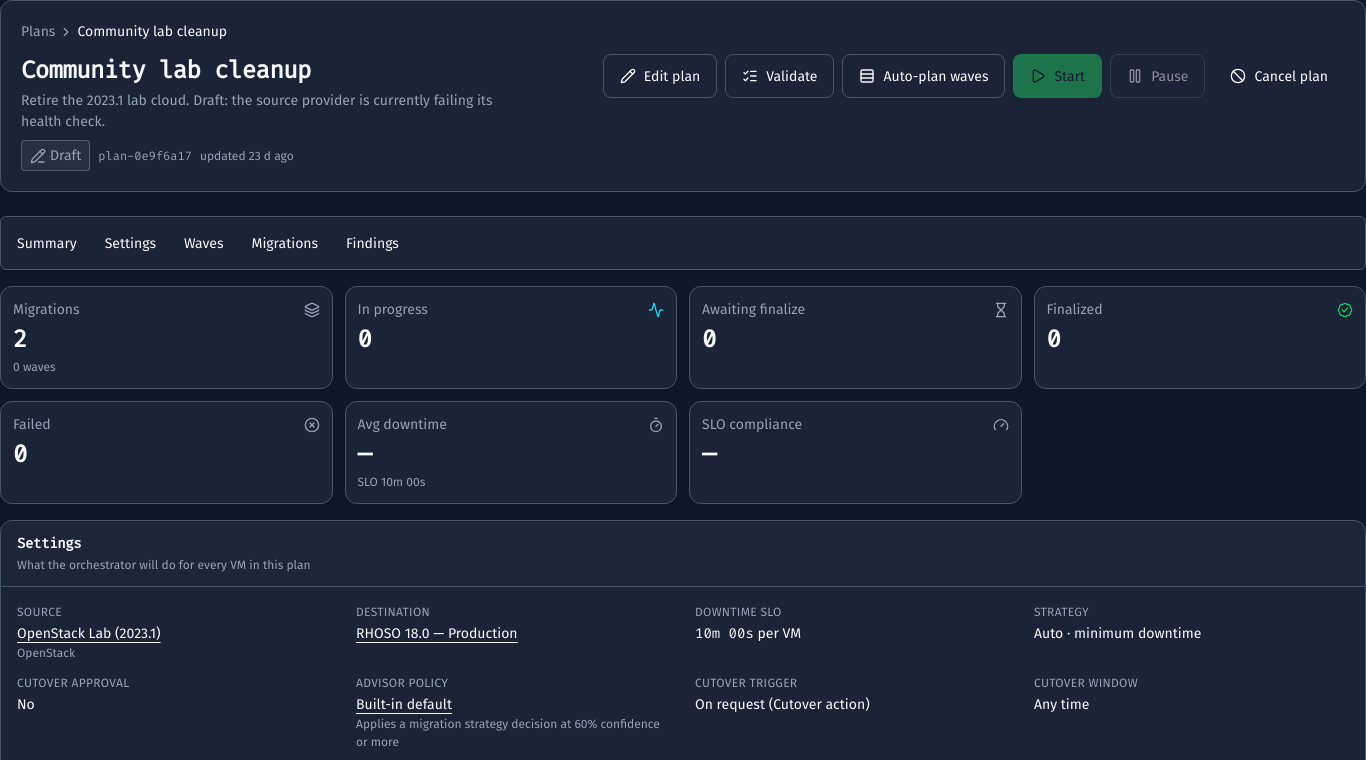
Test case: PlanDetail › validates a draft plan and then allows starting it
This screenshot has width=1366, height=760.
Click the button "Validate" at (780, 76), box top-left (725, 54), bottom-right (834, 98)
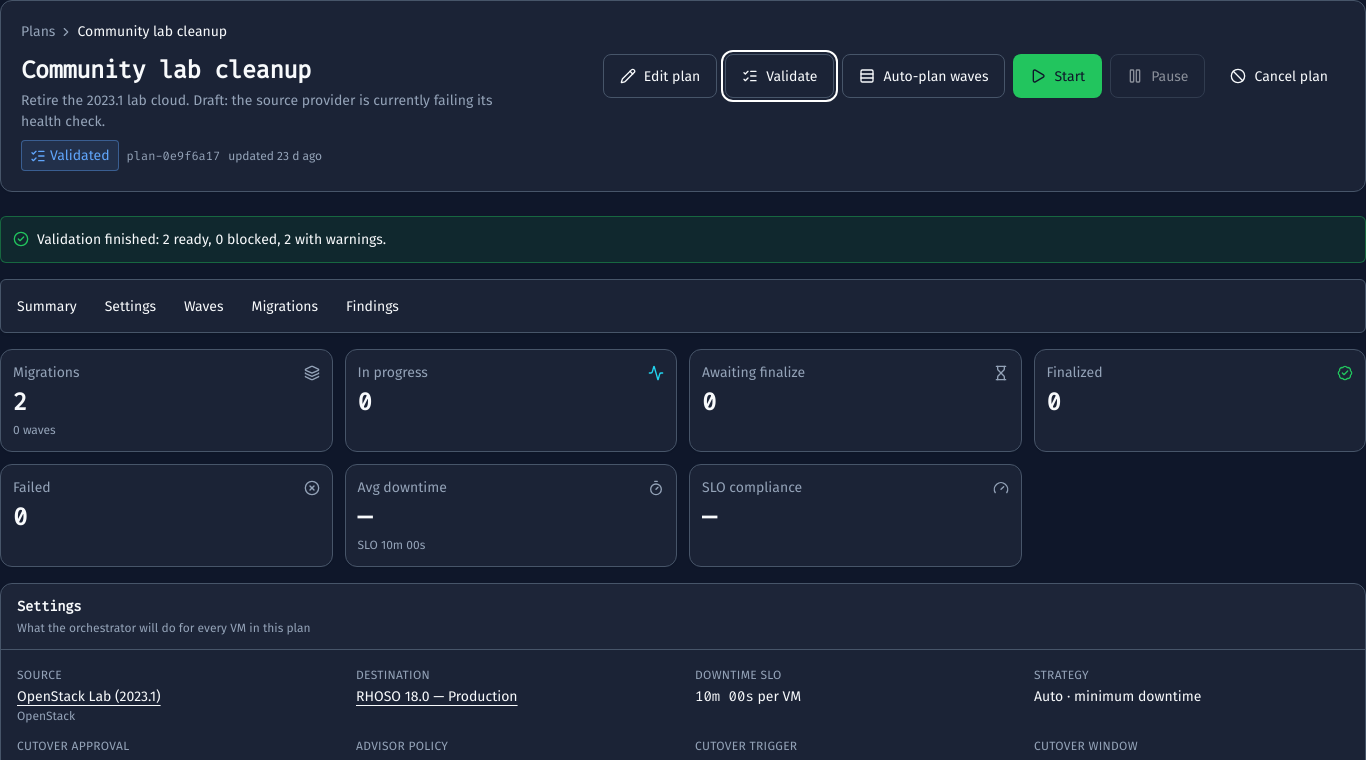
Expected: the text "Validation finished: 2 ready, 0 blocked, 2 with warnings." is shown, top-left (37, 229), bottom-right (386, 250)
